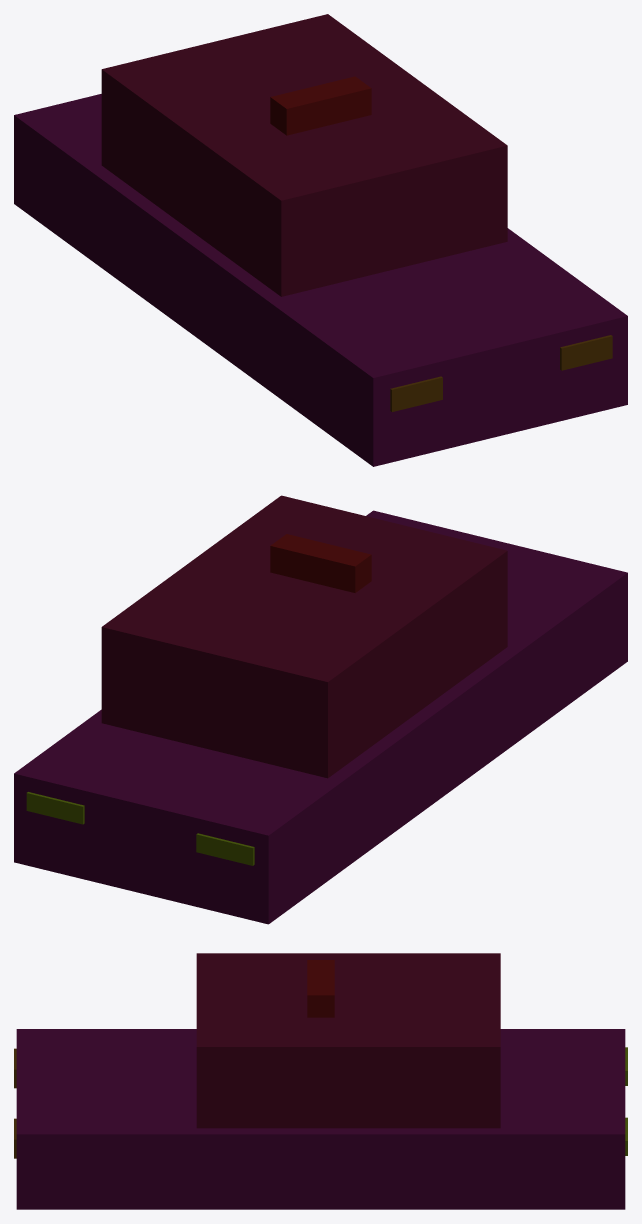
File: taxi.glb
3 views of the same model, one above another, from view 1: azimuth 30°, elevation 25°; view 2: azimuth 150°, elevation 25°; view 3: azimuth 270°, elevation 25° (orthographic). The views are drawn at different scales.
Parts seen in each view (by area): view 1: taxi; view 2: taxi; view 3: taxi.
Boxes of the visible parts, <box> form: taxi: <box>14,14,627,466</box>; taxi: <box>14,495,627,924</box>; taxi: <box>14,953,627,1209</box>.
Bounding box in the file's own units: 1.8 × 1.43 × 4.44.
